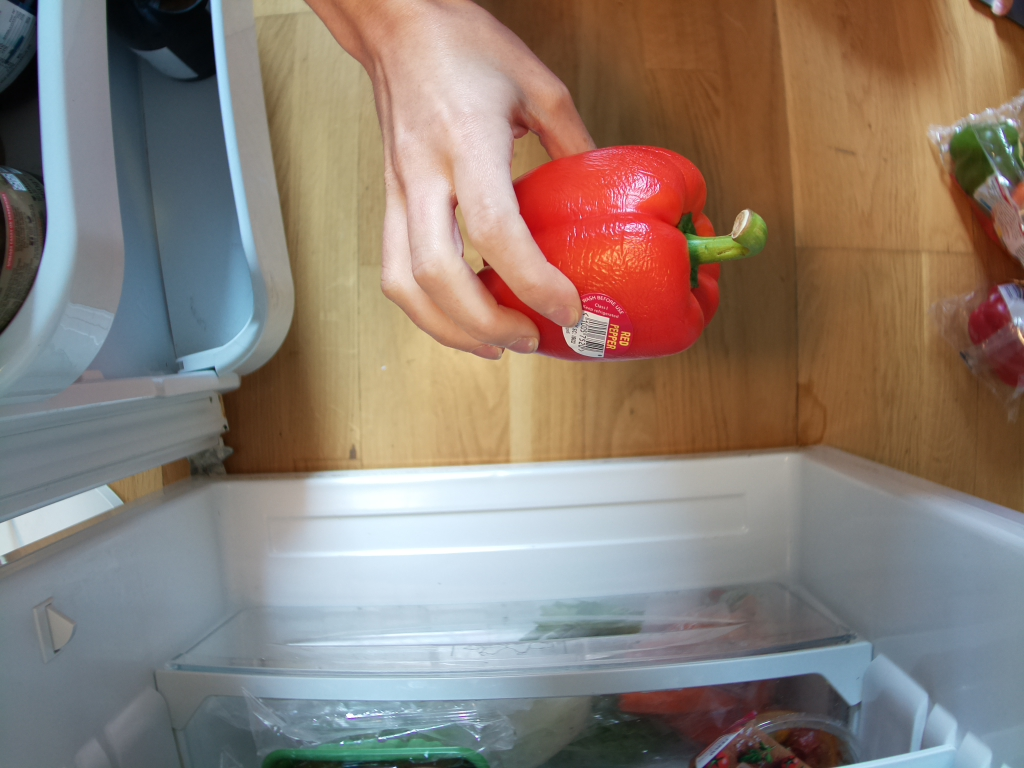pepper-bad: (483, 137, 771, 356)
